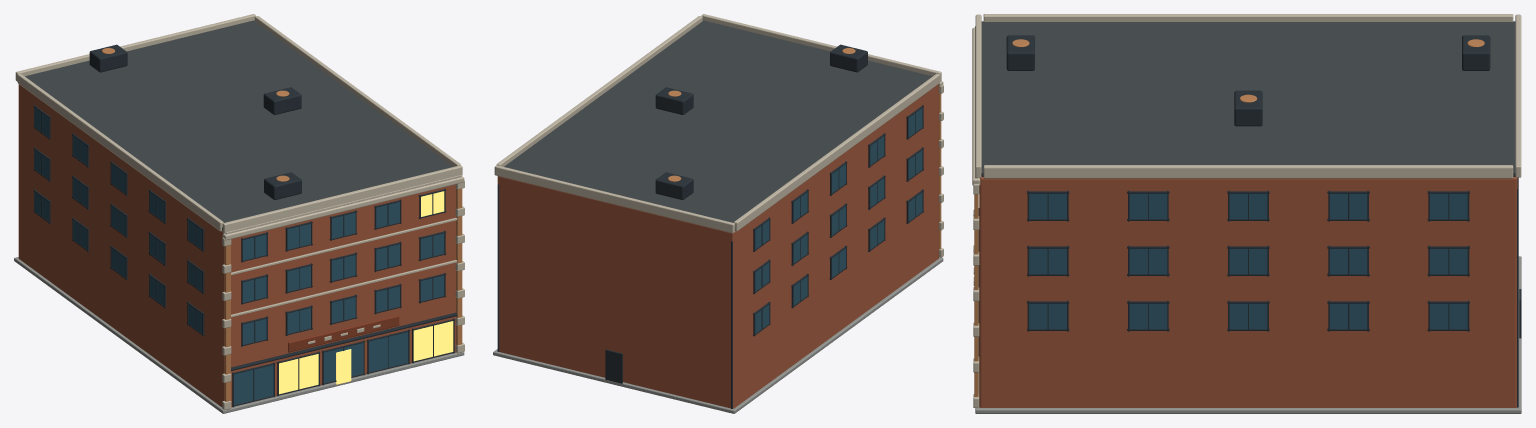
File: rorng_city_storefront_heritage_20x30.glb
3 views of the same model, side by side, from view 1: azimuth 30°, elevation 25°; view 2: azimuth 150°, elevation 25°; view 3: azimuth 270°, elevation 25° (orthographic). The views are drawn at different scales.
Visible parts, largest first — view 1: rorng_city_storefront_heritage_20x30_lod0; view 2: rorng_city_storefront_heritage_20x30_lod0; view 3: rorng_city_storefront_heritage_20x30_lod0.
Boxes of the visible parts, box(x1,y1,x2,y2) form: rorng_city_storefront_heritage_20x30_lod0: box(14, 14, 464, 413); rorng_city_storefront_heritage_20x30_lod0: box(493, 14, 943, 413); rorng_city_storefront_heritage_20x30_lod0: box(972, 14, 1521, 413).
Size of what is drawn, in the model's own units: 20.01 by 16.18 by 30.16.
